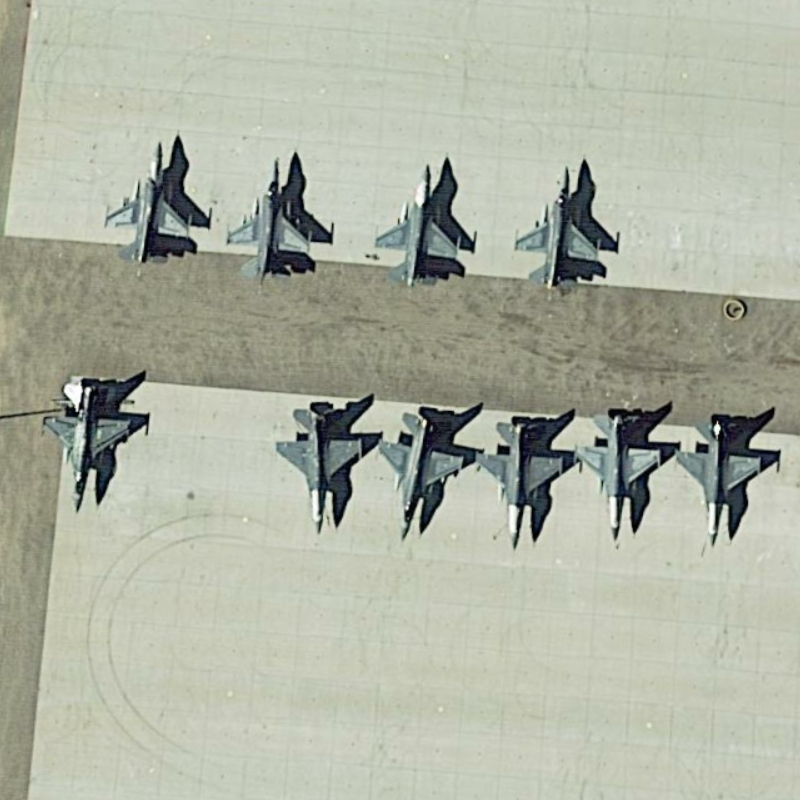A5: (37, 367, 154, 521), (509, 148, 611, 300), (271, 389, 373, 539), (101, 125, 205, 270), (573, 400, 673, 550), (471, 403, 573, 546), (367, 155, 466, 296), (376, 404, 470, 540), (225, 148, 318, 283), (676, 409, 768, 543)
